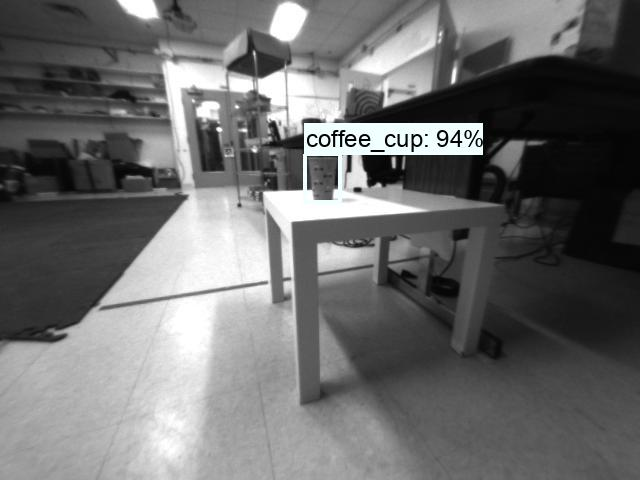coffee_cup: (302, 153, 343, 201)
